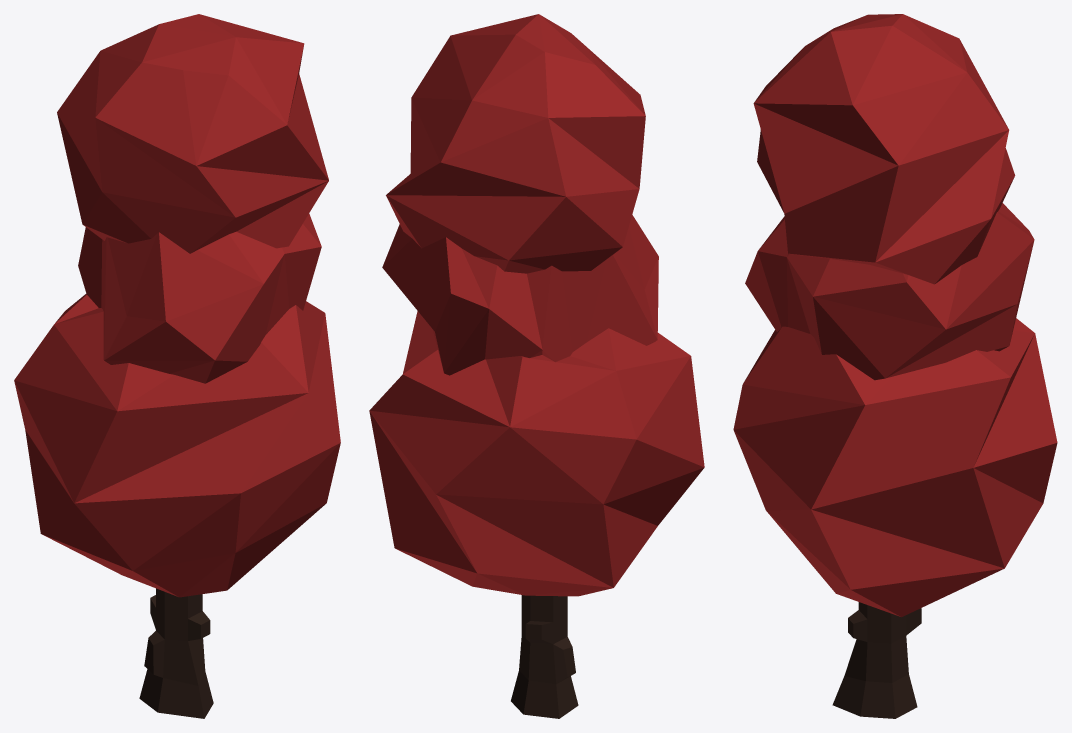
The model's file is Tree17.fbx.
3 views of the same model, side by side, from view 1: azimuth 30°, elevation 25°; view 2: azimuth 150°, elevation 25°; view 3: azimuth 270°, elevation 25° (orthographic). The views are drawn at different scales.
Parts seen in each view (by area): view 1: TreeRed01; view 2: TreeRed01; view 3: TreeRed01.
Boxes of the visible parts, left/top/right/bottom form: TreeRed01: left=14, top=14, right=340, bottom=718; TreeRed01: left=369, top=14, right=704, bottom=718; TreeRed01: left=733, top=14, right=1057, bottom=718.
Bounding box in the file's own units: 0.6787 × 1.6 × 0.6816.
